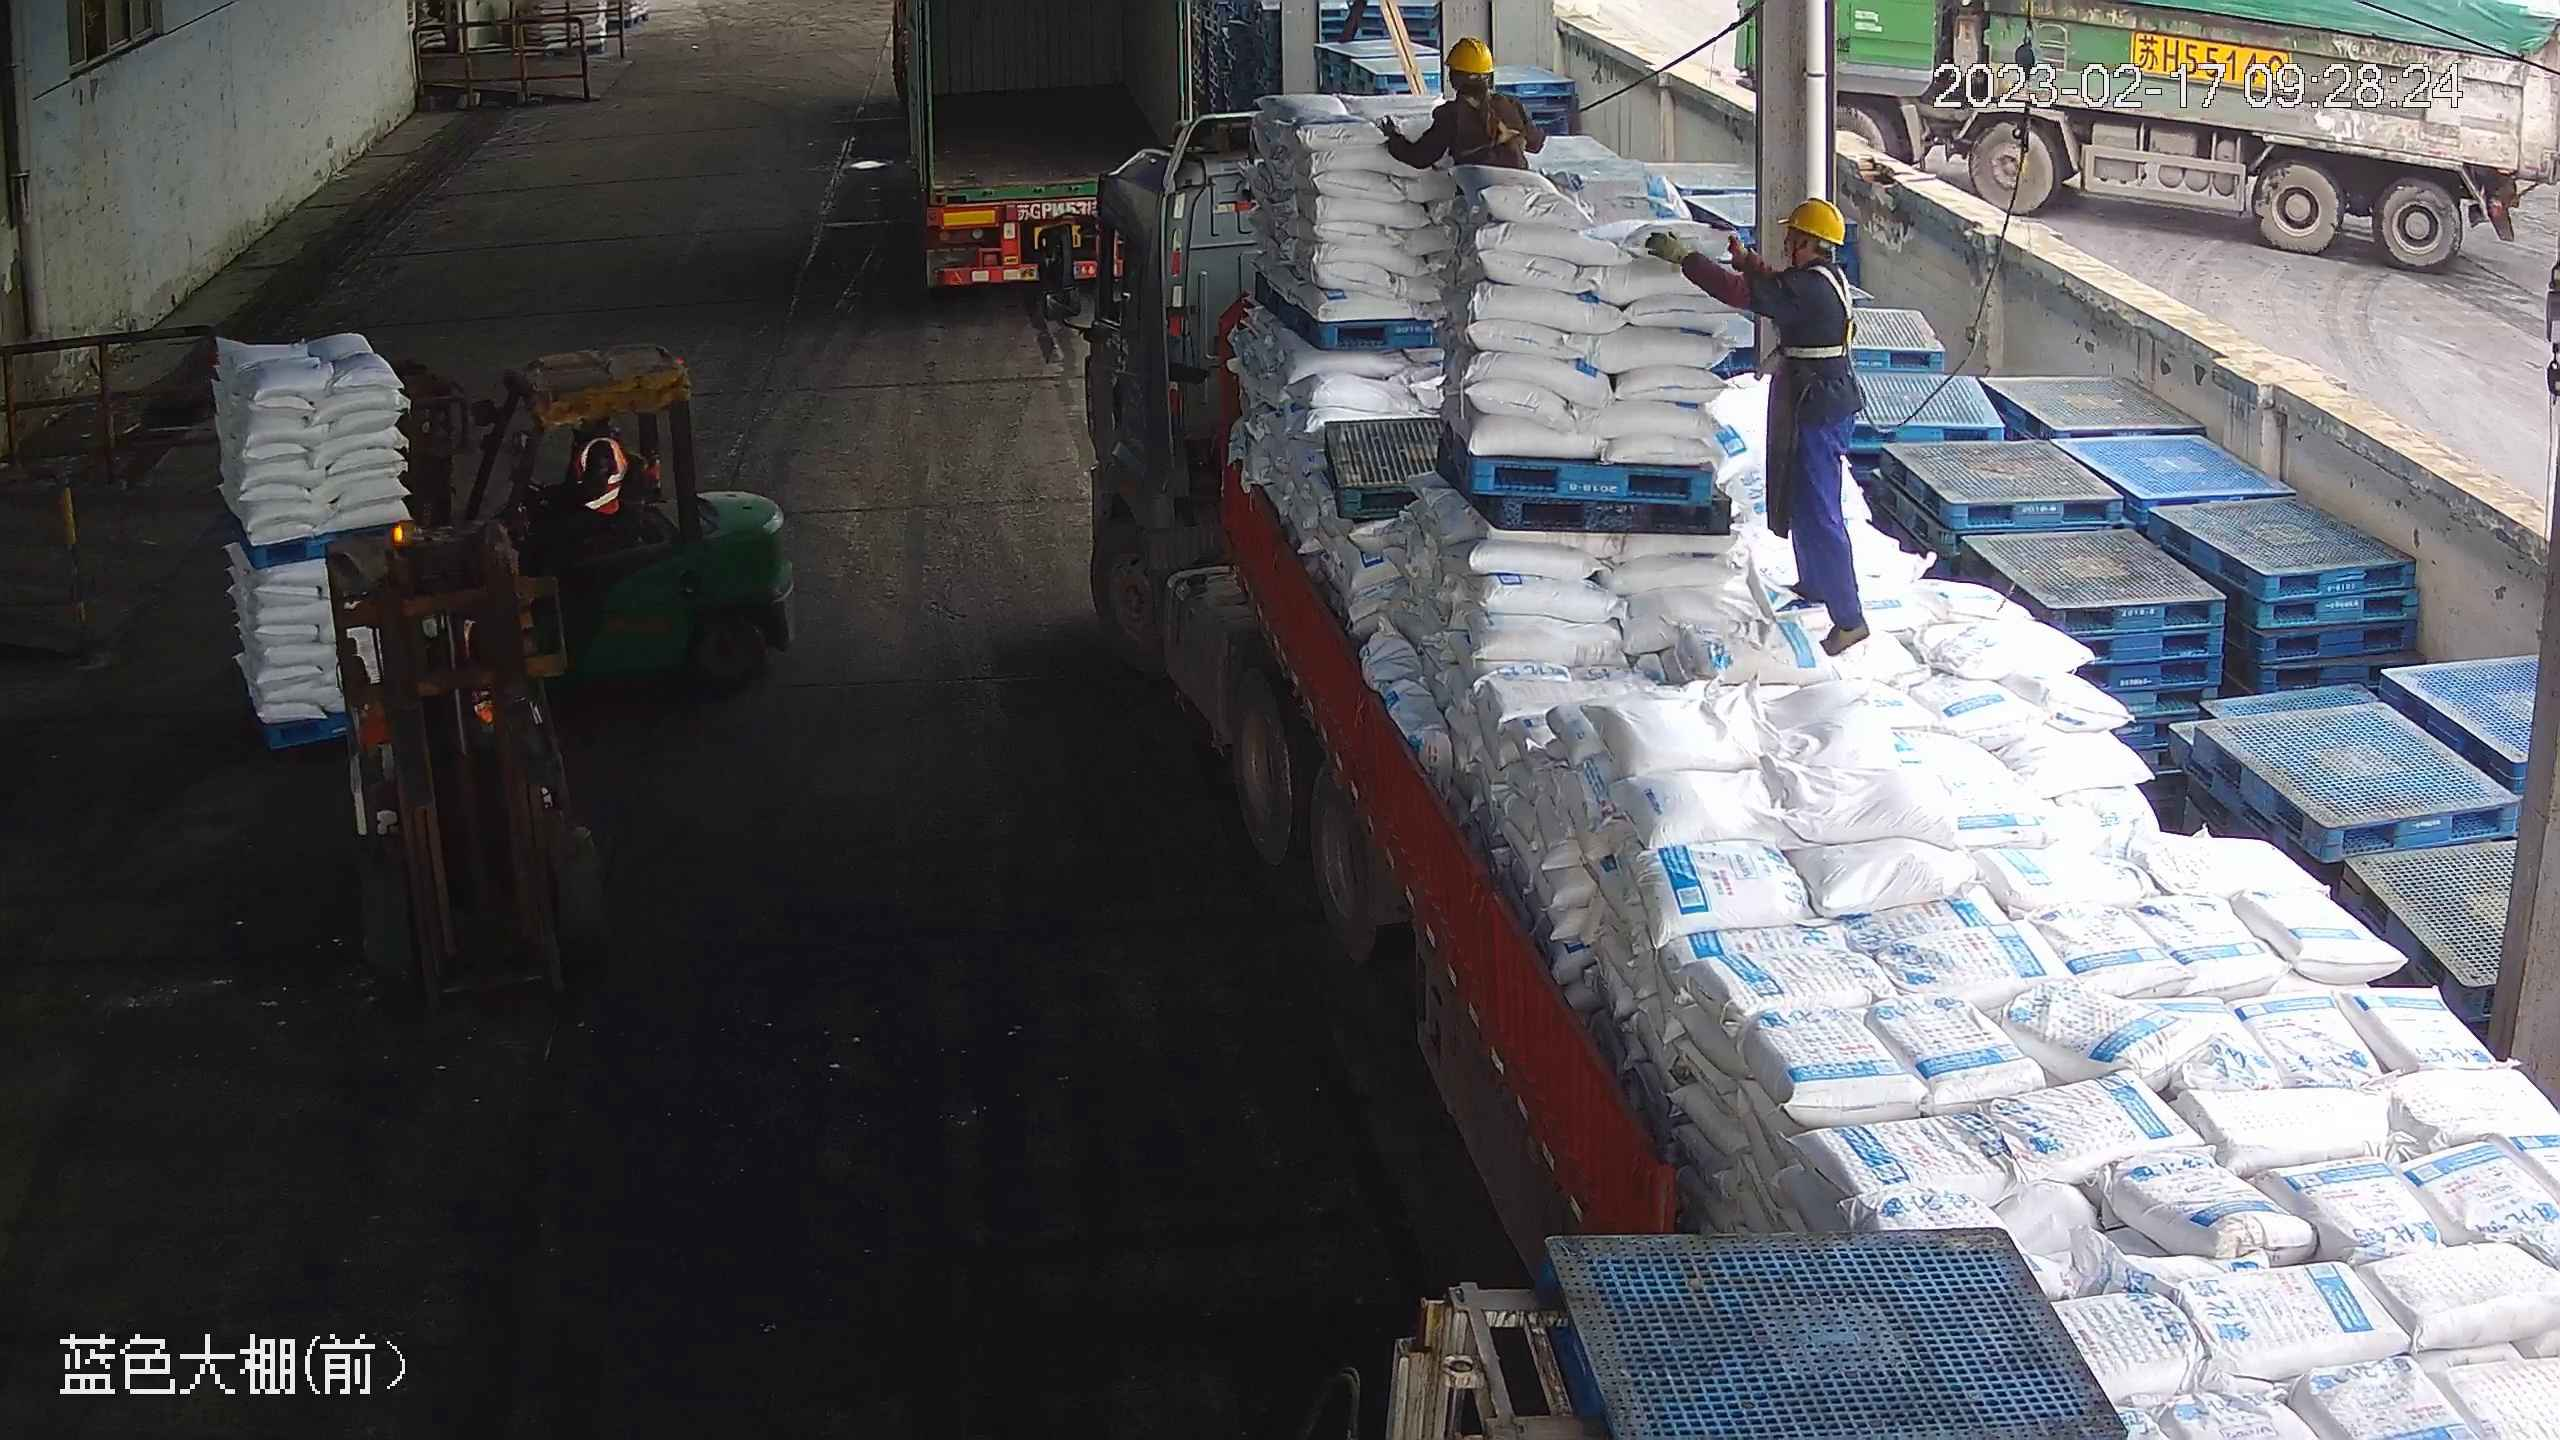belt: (1420, 36, 1531, 148), (1773, 259, 1864, 366), (1448, 89, 1522, 153)
head: (1743, 196, 1855, 337), (1418, 39, 1535, 146)
helmet: (1777, 195, 1844, 250), (1441, 36, 1494, 75)
people: (1659, 190, 1871, 651), (519, 418, 643, 577)
truck: (1037, 119, 2545, 1431), (885, 0, 1208, 308)
